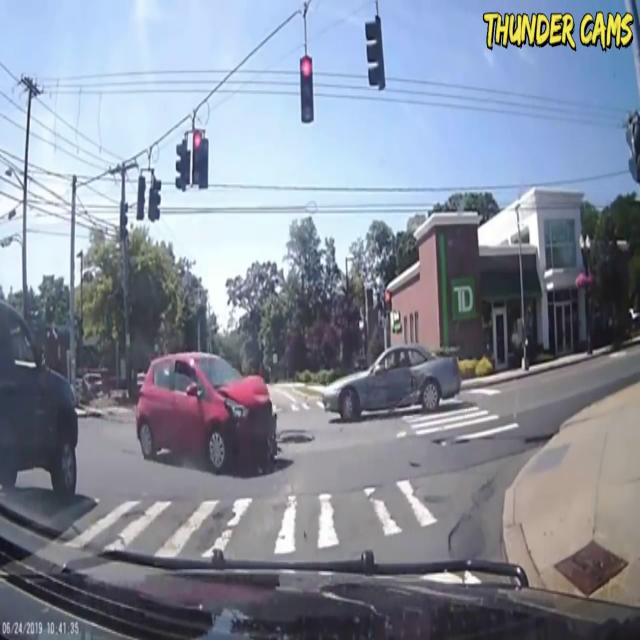accident: (110, 326, 284, 485)
